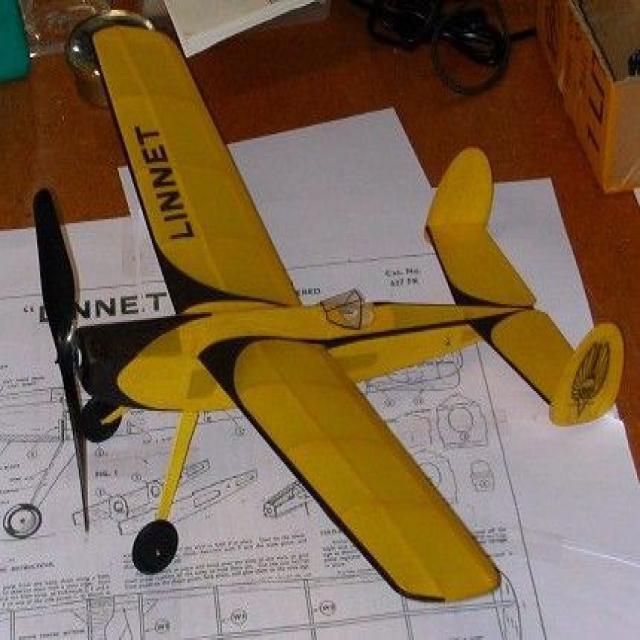iha: (24, 15, 619, 610)
